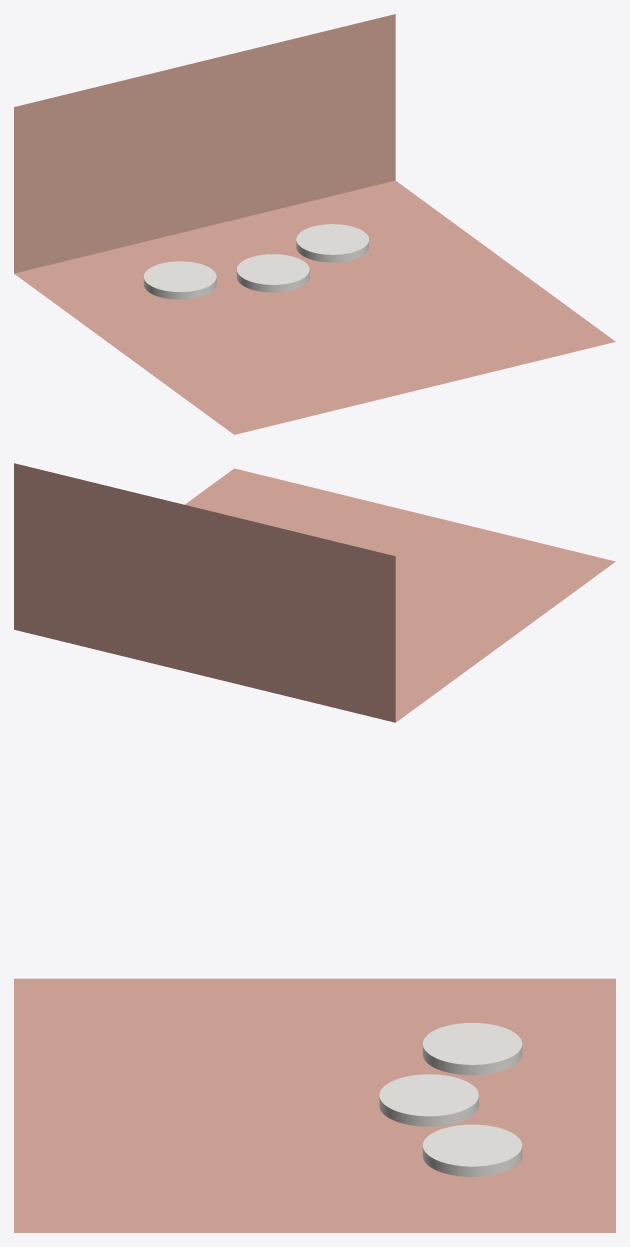
The model's file is podiums.glb.
3 renders of one model, top to bottom at view 1: azimuth 30°, elevation 25°; view 2: azimuth 150°, elevation 25°; view 3: azimuth 270°, elevation 25°, orthographic. The views are drawn at different scales.
Parts seen in each view (by area): view 1: Plane.001, Cylinder.001, Cylinder, Cylinder.002; view 2: Plane.001; view 3: Plane.001, Cylinder.002, Cylinder.001, Cylinder.
Part boxes in pixels (<box>): Plane.001: <box>14,14,615,434</box>; Cylinder.001: <box>143,261,216,299</box>; Cylinder: <box>236,254,309,292</box>; Cylinder.002: <box>296,224,368,262</box>; Plane.001: <box>14,463,615,722</box>; Plane.001: <box>14,978,615,1232</box>; Cylinder.002: <box>422,1124,522,1176</box>; Cylinder.001: <box>422,1023,522,1075</box>; Cylinder: <box>379,1074,478,1126</box>.
Size of the model in its own units: 40 by 16.68 by 40.
